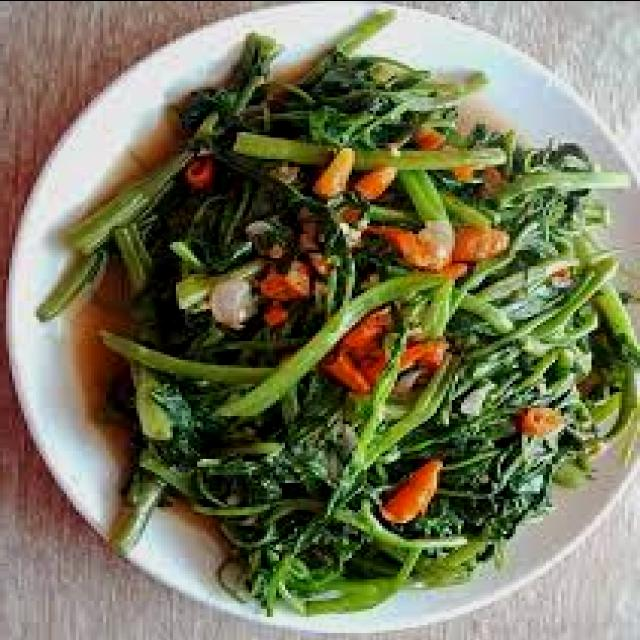tumis kangkung: (31, 30, 632, 620)
